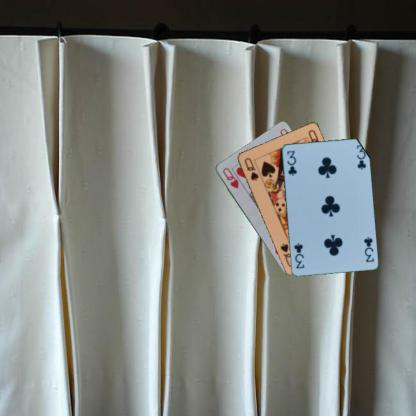3c: (284, 148, 298, 177), (361, 234, 375, 263)
Qh: (220, 165, 240, 190)
Qs: (242, 155, 260, 182)
